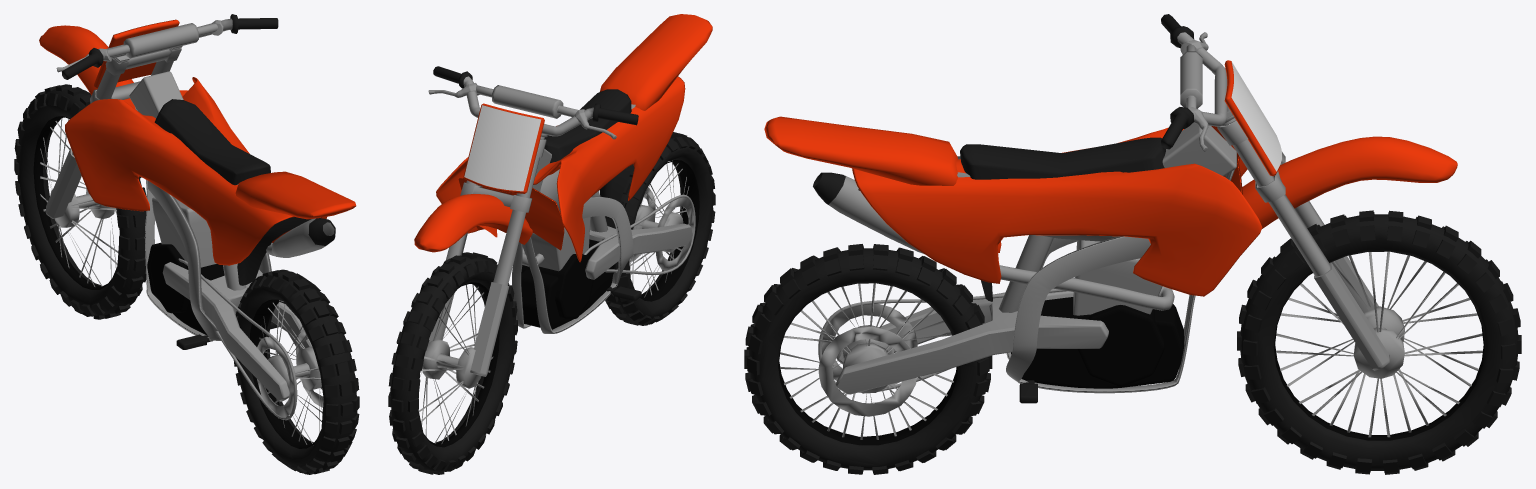
File: moto.glb
The picture shows the model from 3 angles, left to right: view 1: azimuth 30°, elevation 25°; view 2: azimuth 150°, elevation 25°; view 3: azimuth 270°, elevation 25°; orthographic projection. The views are drawn at different scales.
Visible parts, largest first — view 1: moto_body, moto_wheelR, moto_wheelF, moto_front; view 2: moto_body, moto_front, moto_wheelF, moto_wheelR; view 3: moto_body, moto_wheelF, moto_wheelR, moto_front.
Boxes of the visible parts, left/top/right/bottom form: moto_body: left=65, top=71, right=356, bottom=420; moto_wheelR: left=233, top=269, right=359, bottom=474; moto_wheelF: left=14, top=84, right=146, bottom=319; moto_front: left=39, top=14, right=278, bottom=218; moto_body: left=436, top=14, right=712, bottom=333; moto_front: left=414, top=66, right=638, bottom=376; moto_wheelF: left=388, top=252, right=517, bottom=474; moto_wheelR: left=605, top=132, right=715, bottom=325; moto_body: left=764, top=116, right=1262, bottom=403; moto_wheelF: left=1237, top=210, right=1521, bottom=474; moto_wheelR: left=744, top=244, right=992, bottom=474; moto_front: left=1161, top=14, right=1457, bottom=370.
Size of the model in its own units: 0.8781 by 1.32 by 2.3.
